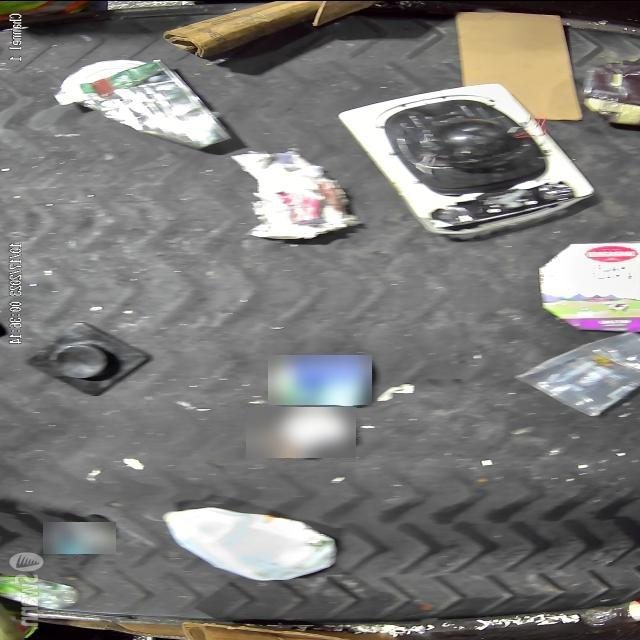milk_jug: (162, 506, 338, 580)
plastic_bottle: (0, 574, 80, 610)
